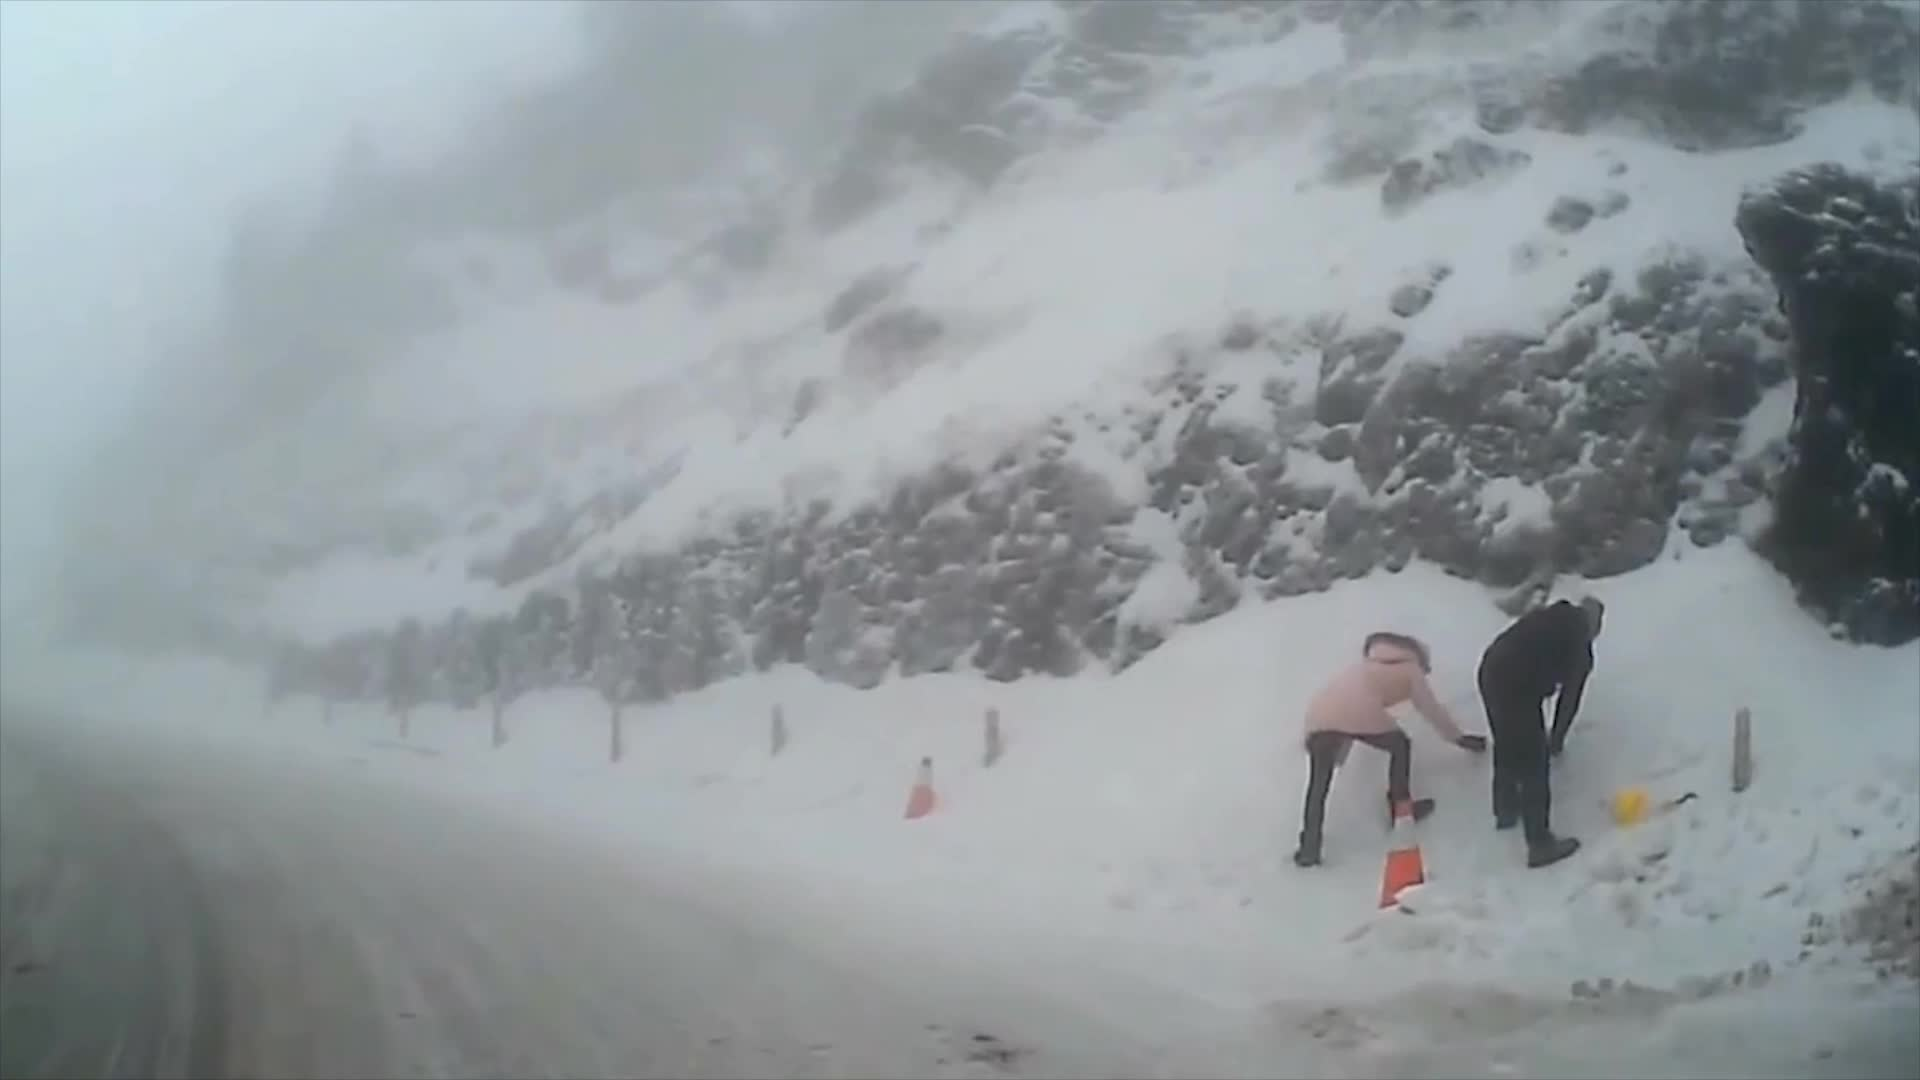pedestrian: (1299, 631, 1485, 865), (1480, 592, 1611, 864)
